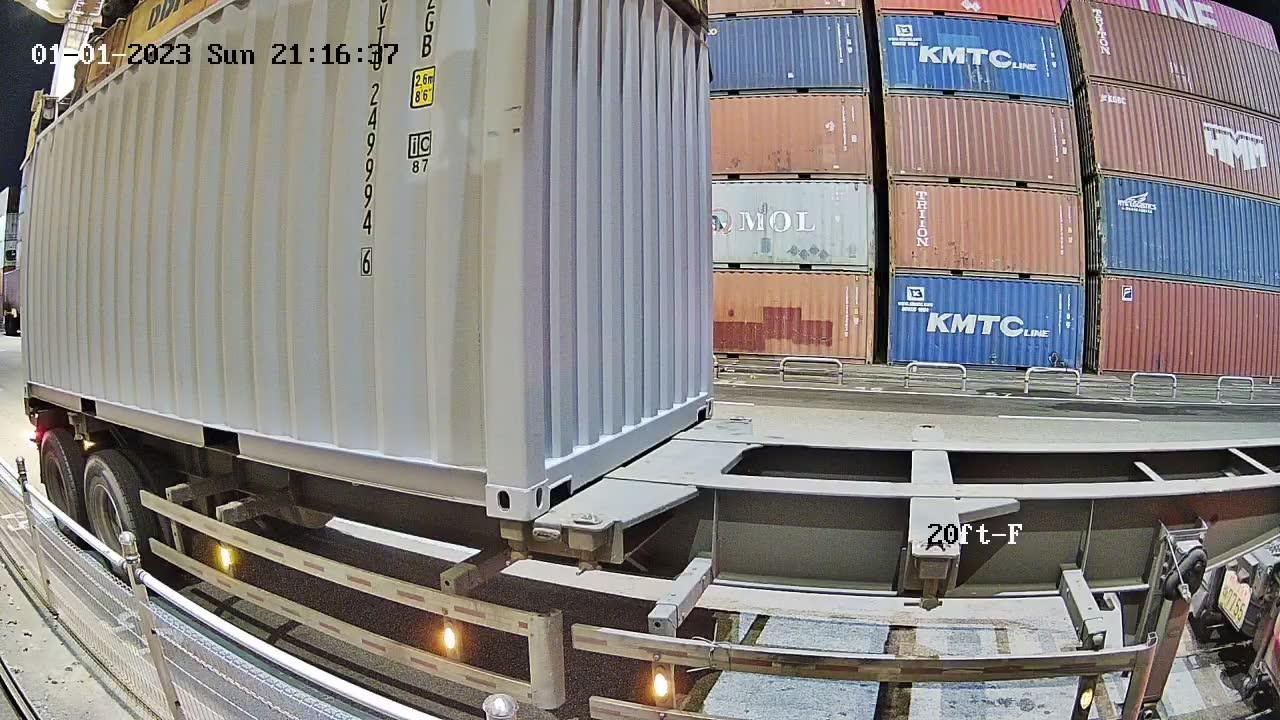Cone: (537, 415, 721, 521), (497, 518, 527, 556)
Hole_L: (523, 417, 584, 519)
Hole_R: (459, 434, 527, 519), (679, 365, 717, 428)
